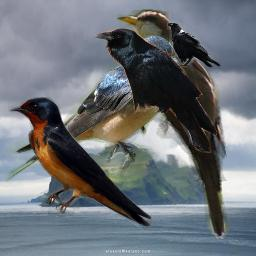Crow: (94, 28, 217, 153), (167, 20, 221, 69)
Cuckoo: (116, 9, 232, 242)
Swallow: (5, 35, 181, 183), (8, 97, 152, 230)
